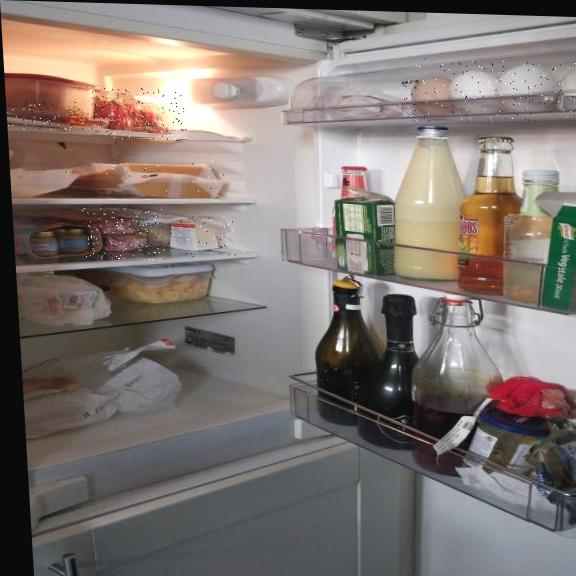bacon: (82, 207, 166, 261)
cheese: (60, 153, 247, 204), (163, 215, 246, 260)
eggs: (397, 57, 576, 126)
ham: (6, 100, 117, 132)
tomatoes: (88, 87, 187, 142)
